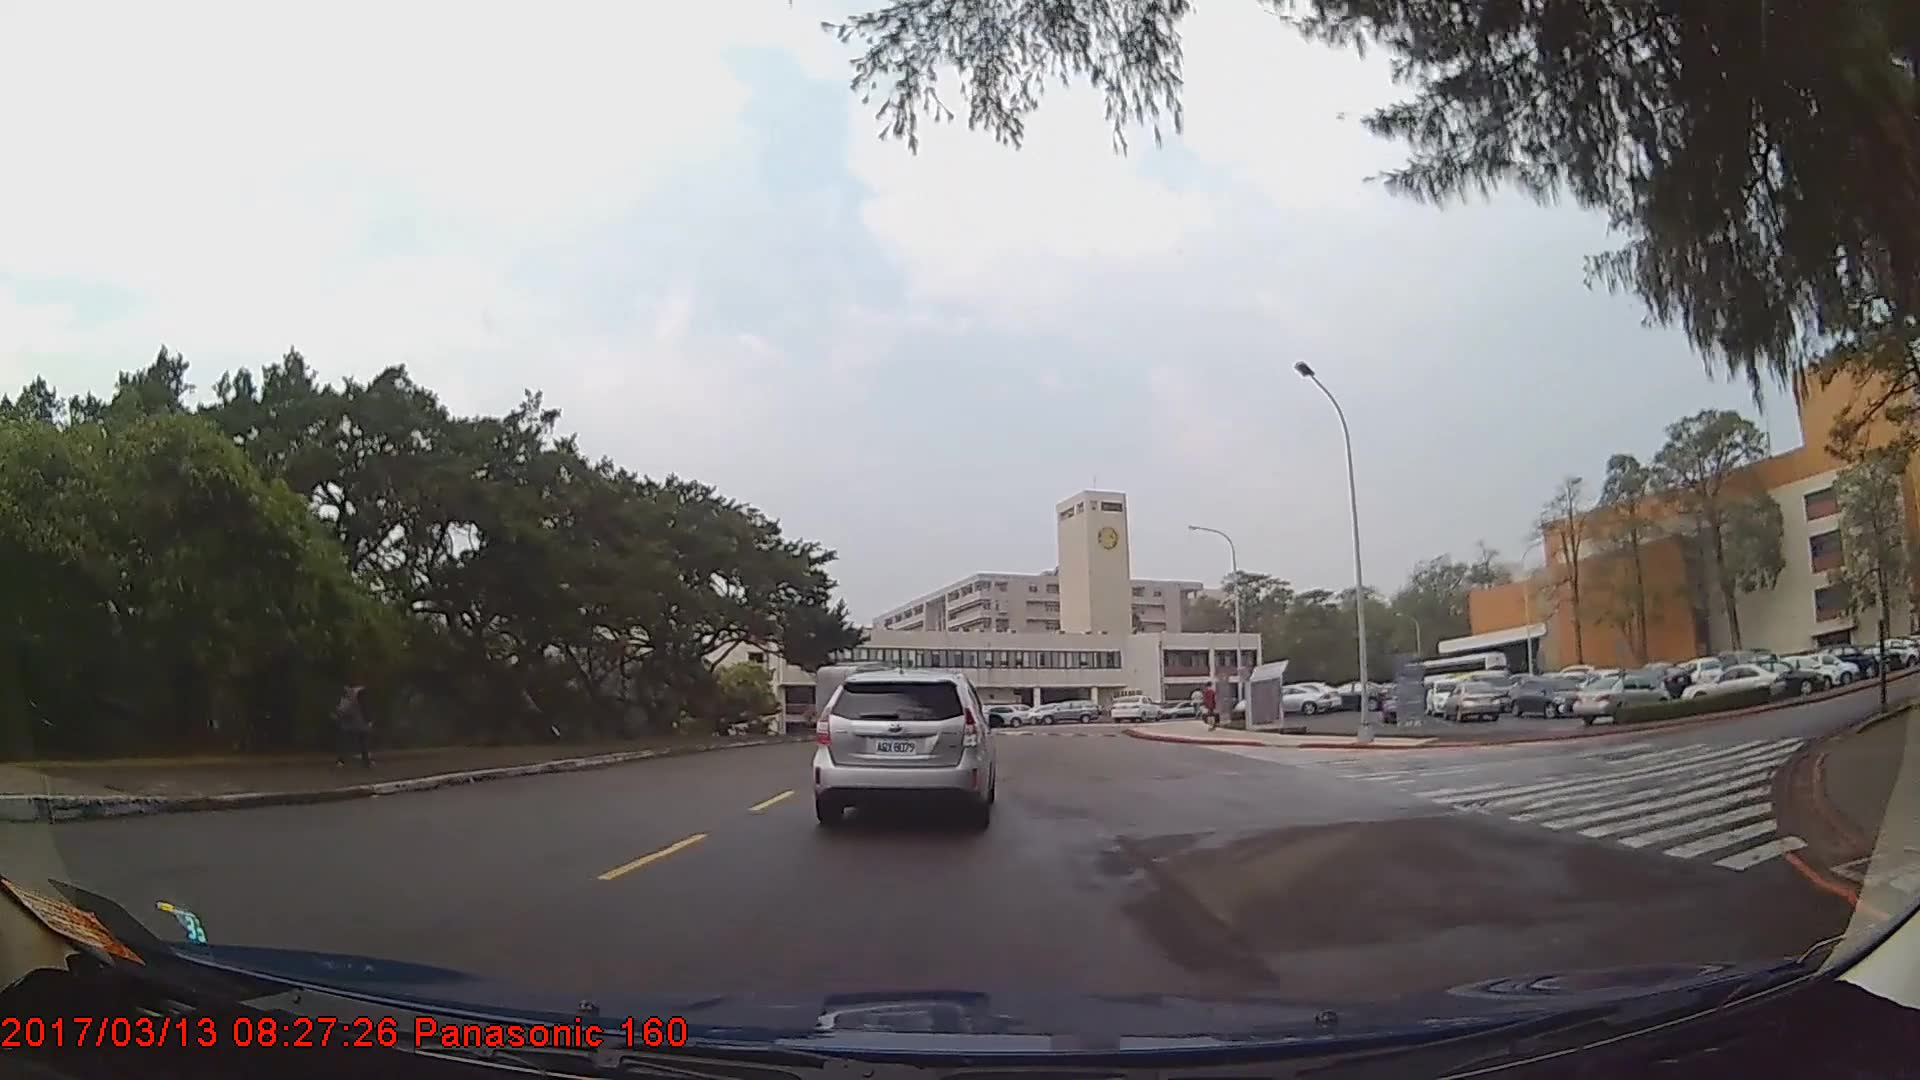pedestrian: (329, 664, 378, 772), (1201, 682, 1221, 733)
vehicle: (816, 668, 992, 825), (1574, 672, 1669, 725), (1682, 660, 1783, 708), (1732, 656, 1826, 698), (1511, 674, 1587, 717), (1240, 679, 1331, 715), (1441, 676, 1503, 722), (1108, 692, 1159, 724), (1038, 698, 1097, 723), (973, 702, 1032, 727)
